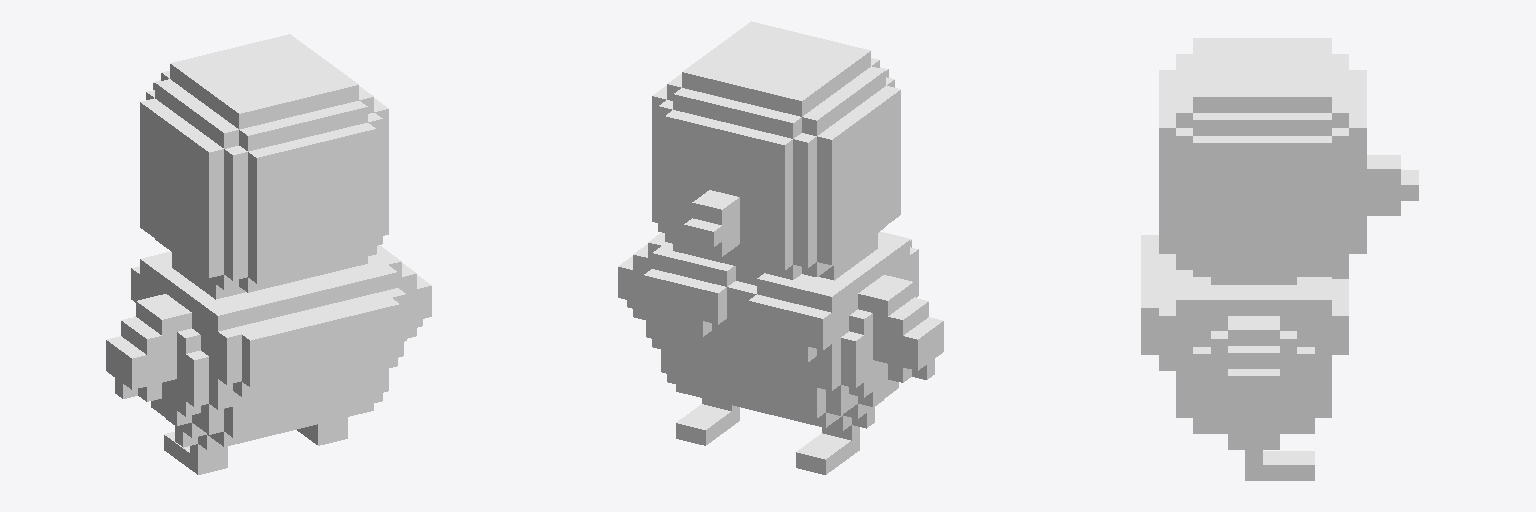
File: Tiplouf.obj
3 views of the same model, side by side, from view 1: azimuth 30°, elevation 25°; view 2: azimuth 150°, elevation 25°; view 3: azimuth 270°, elevation 25° (orthographic).
Visible parts, largest first — view 1: Tiplouf; view 2: Tiplouf; view 3: Tiplouf.
Part boxes in pixels (left/top/right/bottom): Tiplouf: left=106, top=34, right=431, bottom=474; Tiplouf: left=618, top=21, right=943, bottom=474; Tiplouf: left=1141, top=38, right=1418, bottom=480.
Size of the model in its own units: 20 by 24 by 16.